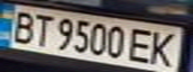0: (106, 22, 130, 61), (87, 20, 109, 57)
5: (69, 18, 93, 55)
9: (51, 15, 75, 52)
B: (3, 8, 39, 44)
E: (124, 26, 157, 65)
K: (145, 28, 184, 69)
T: (27, 11, 57, 47)
